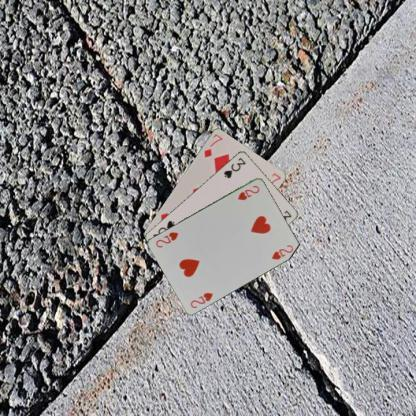2h: (188, 290, 214, 310), (235, 183, 261, 202)
3s: (221, 155, 247, 180)
7d: (201, 131, 224, 158)
